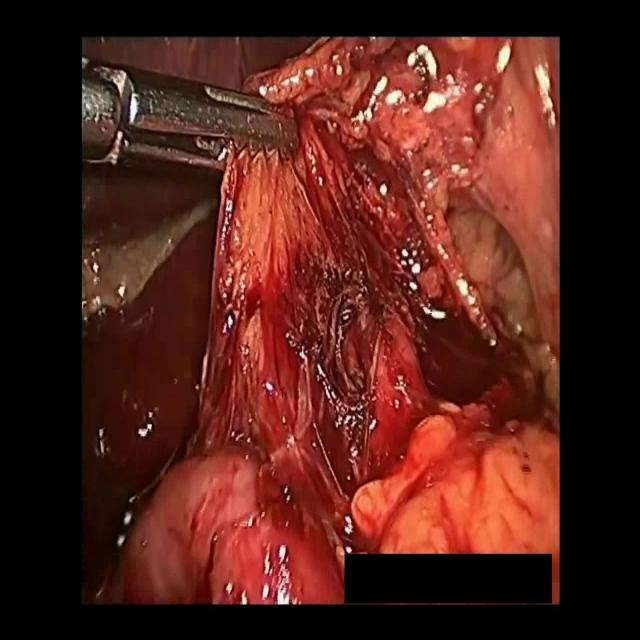surgical-area: (81, 36, 560, 606)
surgical-tool: (81, 52, 300, 172)
